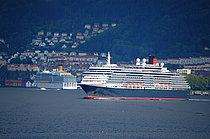Ship: (79, 49, 196, 105)
